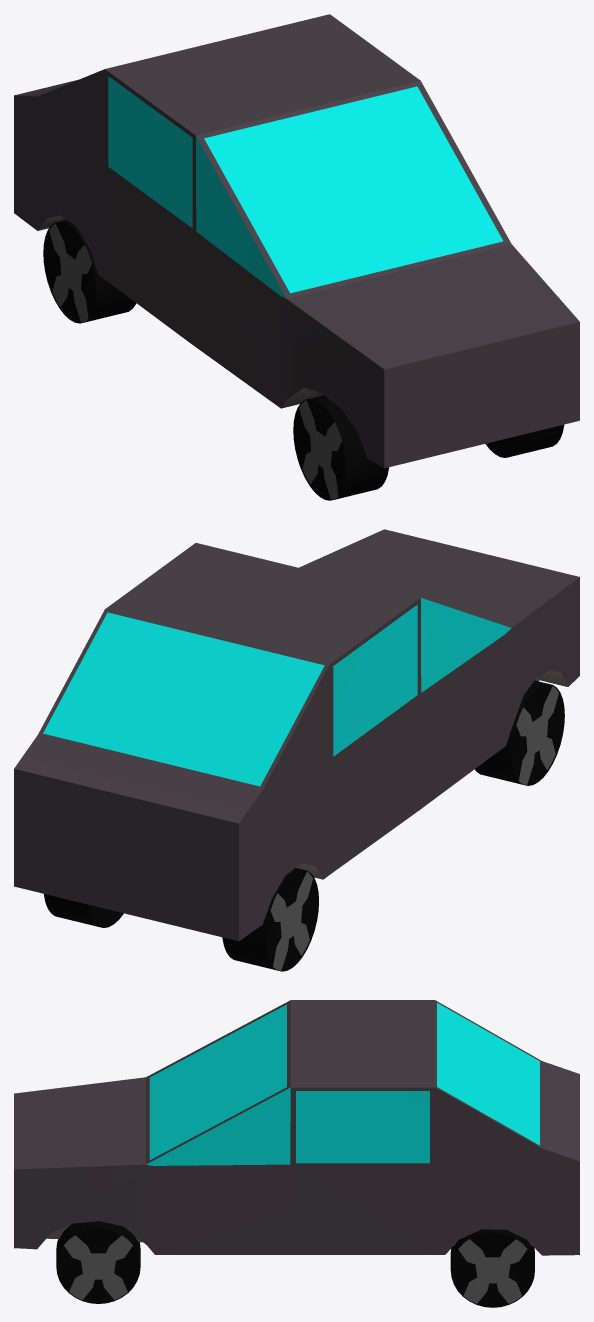
Rendered from Gray Toy Car.fbx.
The picture shows the model from 3 angles, top to bottom: view 1: azimuth 30°, elevation 25°; view 2: azimuth 150°, elevation 25°; view 3: azimuth 270°, elevation 25°; orthographic projection. The views are drawn at different scales.
Parts seen in each view (by area): view 1: Toy Car (Gray); view 2: Toy Car (Gray); view 3: Toy Car (Gray).
Part boxes in pixels (x1=…): Toy Car (Gray): x1=14, y1=14, x2=579, y2=500; Toy Car (Gray): x1=14, y1=529, x2=579, y2=971; Toy Car (Gray): x1=14, y1=1000, x2=579, y2=1307.
Bounding box in the file's own units: 407 × 471 × 1095.
